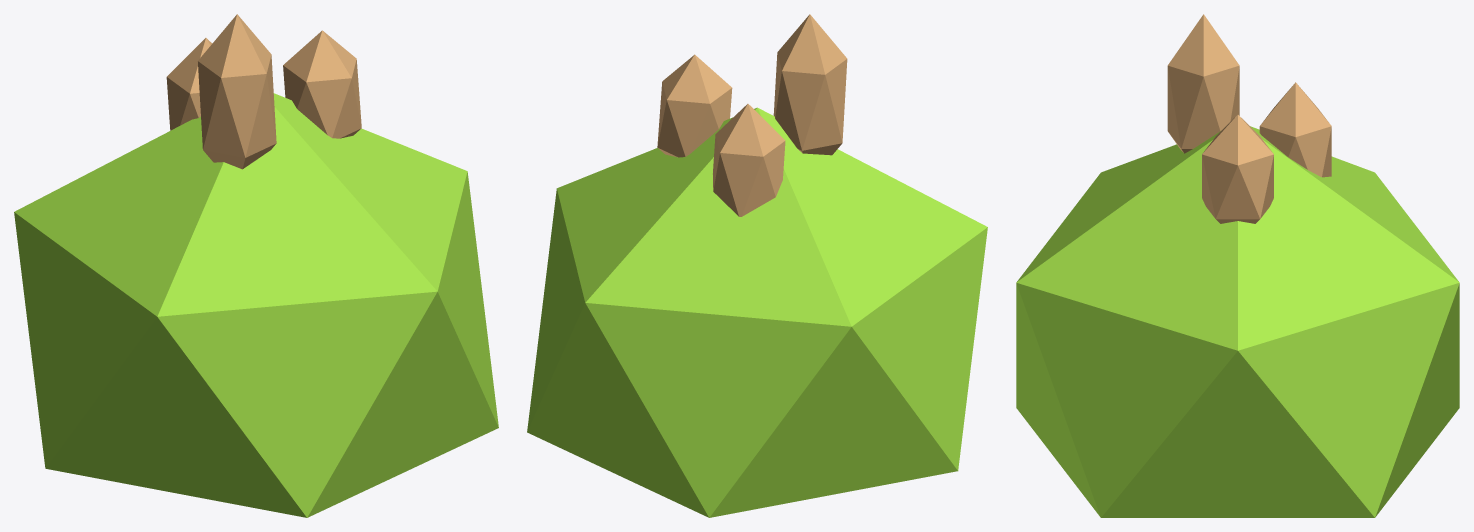
Rendered from green plant.fbx.
3 views of the same model, side by side, from view 1: azimuth 30°, elevation 25°; view 2: azimuth 150°, elevation 25°; view 3: azimuth 270°, elevation 25° (orthographic). The views are drawn at different scales.
Visible parts, largest first — view 1: green plant; view 2: green plant; view 3: green plant.
Part boxes in pixels (x1,y1,x2,y2): green plant: (14, 14, 498, 517); green plant: (527, 14, 987, 517); green plant: (1016, 14, 1459, 517).
Bounding box in the file's own units: 47.39 × 53.69 × 45.07.
